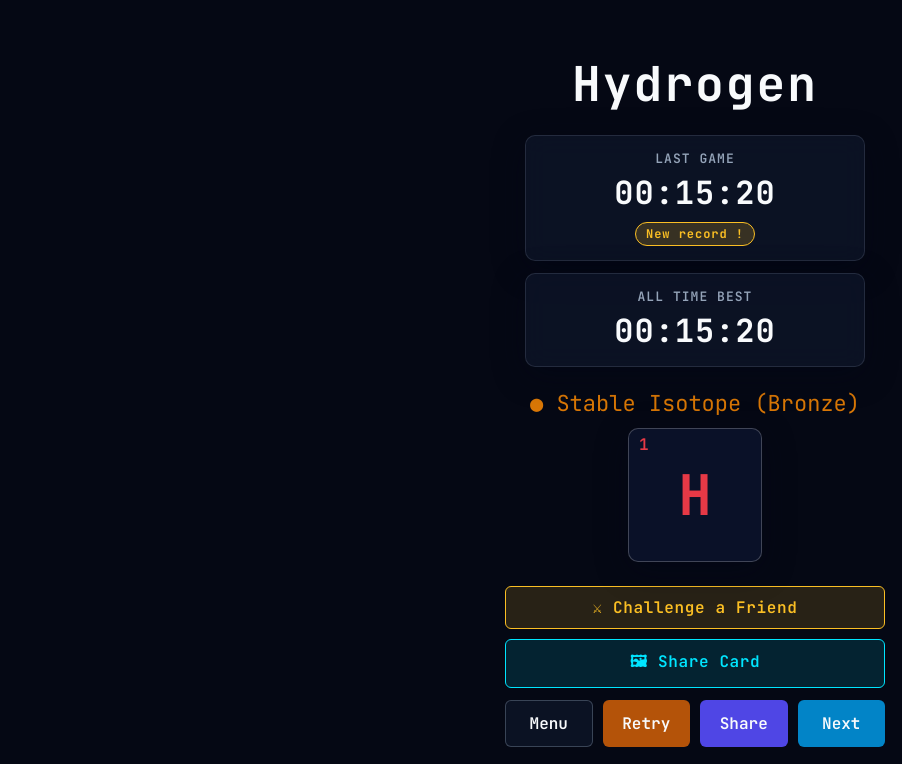
Test: LevelFinished component › navigates to menu on Menu button click
Click the button "Menu": [549, 723] box [505,700,592,746]
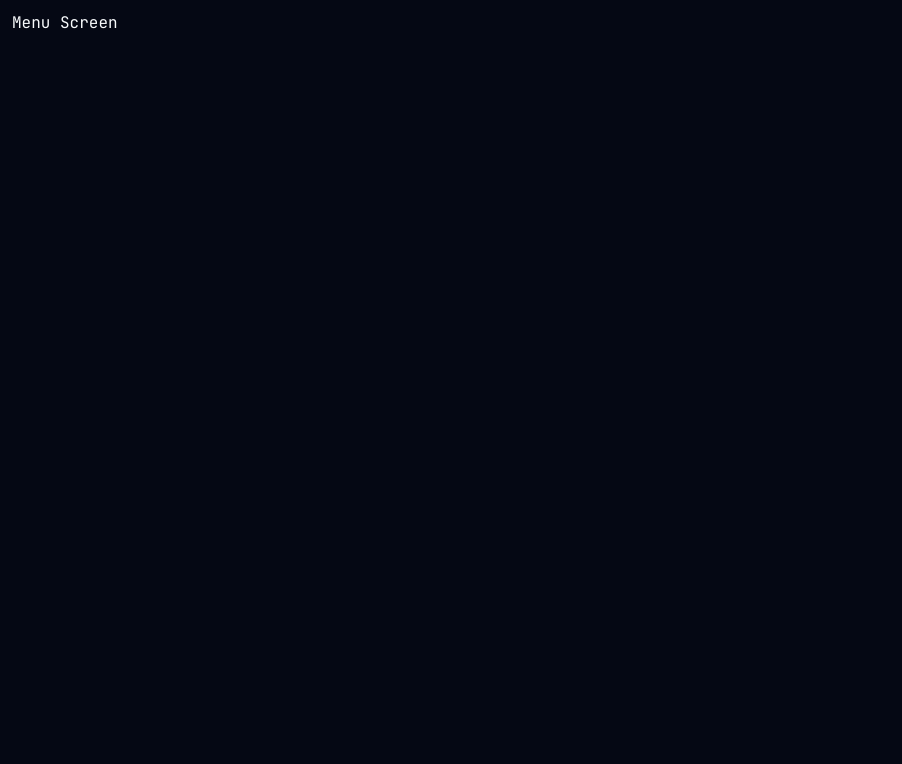
Now the text "Menu Screen" is shown, box [12,12,118,33]
